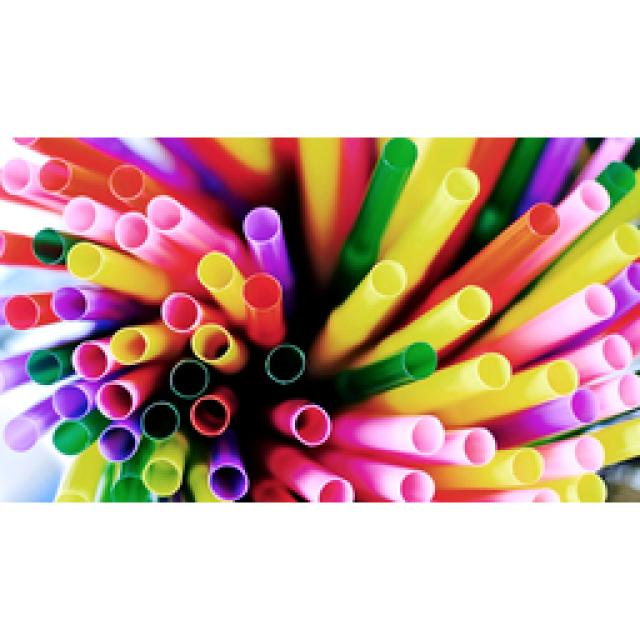plastic: (0, 138, 638, 502)
